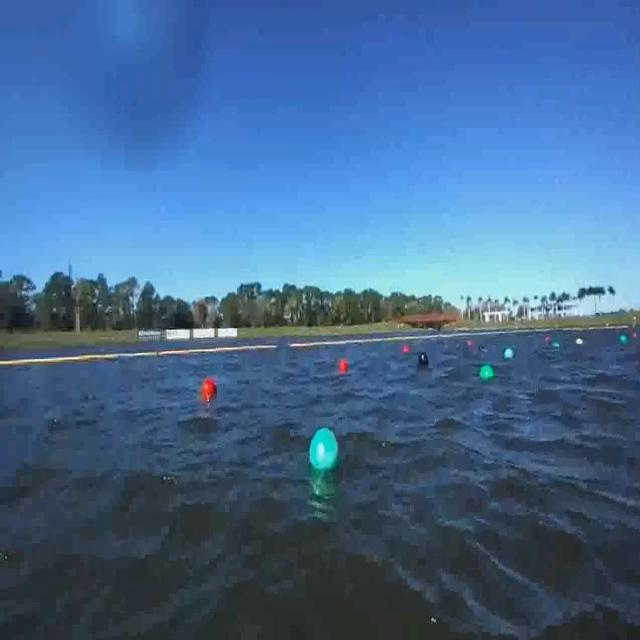black-buoy: (418, 350, 430, 373)
green-buoy: (310, 428, 340, 474), (505, 344, 516, 368), (480, 364, 494, 381)
red-buoy: (199, 376, 219, 408), (337, 358, 351, 376), (400, 342, 410, 356)
